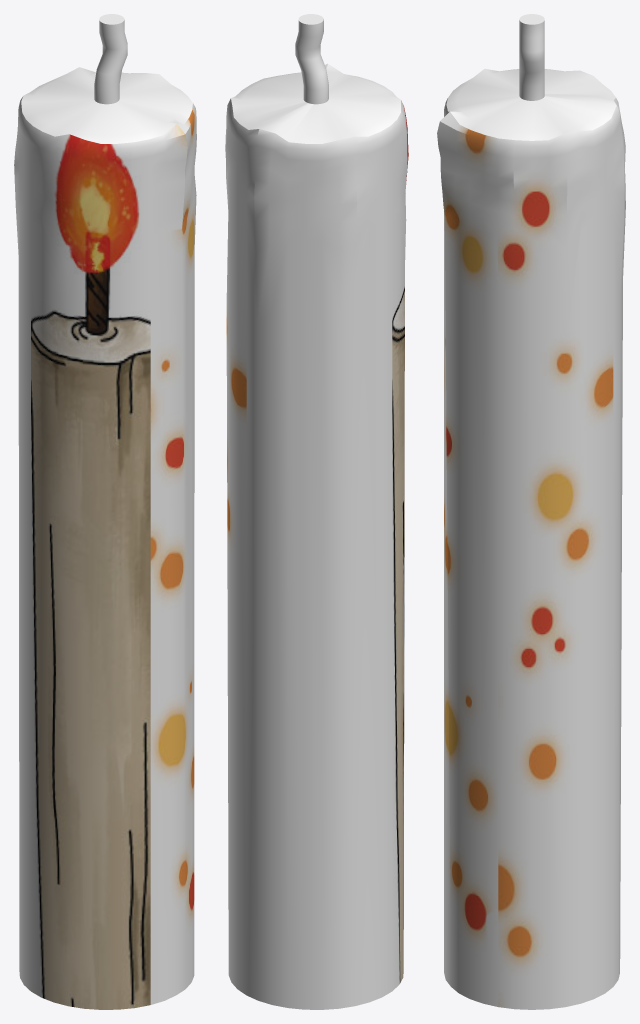
Rendered from candle.fbx.
The picture shows the model from 3 angles, left to right: view 1: azimuth 30°, elevation 25°; view 2: azimuth 150°, elevation 25°; view 3: azimuth 270°, elevation 25°; orthographic projection.
Parts seen in each view (by area): view 1: Cylinder; view 2: Cylinder; view 3: Cylinder.
Part boxes in pixels (left/top/right/bottom): Cylinder: left=14, top=14, right=196, bottom=1009; Cylinder: left=225, top=14, right=408, bottom=1009; Cylinder: left=437, top=14, right=625, bottom=1009.
Size of the model in its own units: 5.56 by 32.7 by 5.86.
